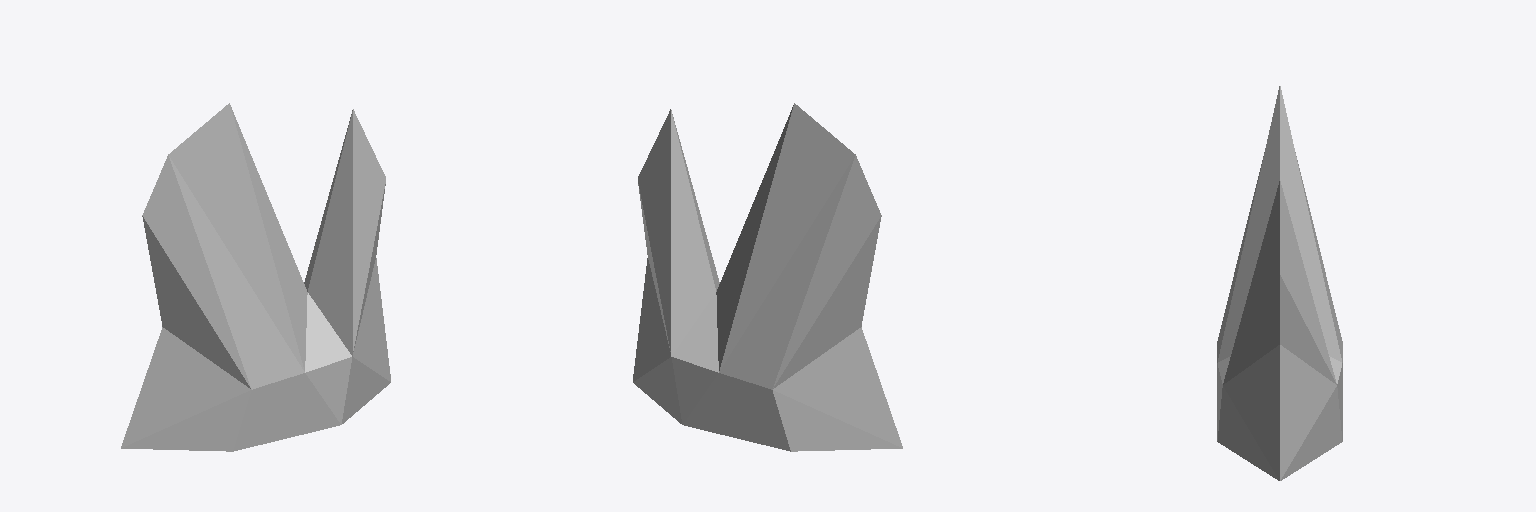
Rendered from silicon_arm_mid.obj.
The picture shows the model from 3 angles: view 1: azimuth 30°, elevation 25°; view 2: azimuth 150°, elevation 25°; view 3: azimuth 270°, elevation 25°; orthographic projection.
Visible parts, largest first — view 1: SiliconArmMid; view 2: SiliconArmMid; view 3: SiliconArmMid.
Part boxes in pixels (x1,y1,x2,y2): SiliconArmMid: (121,103,390,451); SiliconArmMid: (633,103,902,451); SiliconArmMid: (1217,86,1342,480).
Bounding box in the file's own units: 2 × 2.25 × 0.8.